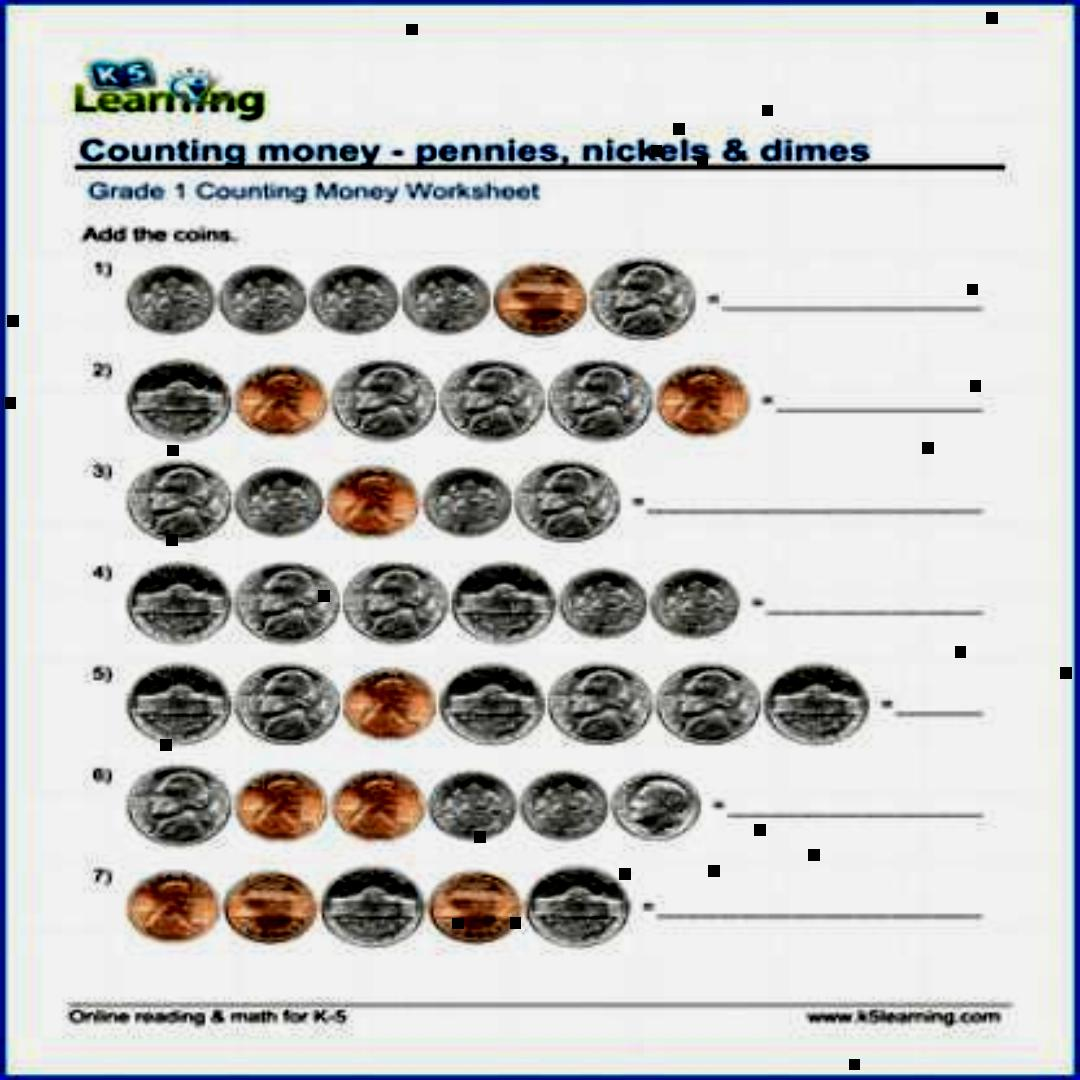Dime: (558, 569, 650, 641), (654, 567, 747, 637), (235, 470, 325, 542), (306, 266, 399, 332), (123, 265, 208, 337), (428, 771, 516, 838), (222, 264, 306, 334), (406, 266, 490, 334), (522, 777, 610, 841), (426, 470, 510, 536), (617, 776, 705, 838)
Nickel: (438, 360, 548, 444), (592, 258, 698, 342), (552, 360, 656, 444), (333, 358, 436, 441), (235, 666, 344, 744), (525, 871, 631, 951), (340, 568, 450, 644), (235, 568, 344, 644), (127, 666, 233, 744), (548, 666, 654, 744), (659, 667, 762, 747), (127, 564, 233, 641), (124, 768, 230, 845), (130, 362, 234, 438), (130, 464, 234, 540), (764, 669, 873, 741), (455, 565, 556, 642), (442, 666, 544, 742), (516, 464, 618, 540), (325, 868, 423, 945)
Penny: (236, 770, 330, 848), (342, 669, 440, 741), (236, 364, 330, 436), (124, 874, 218, 946), (327, 465, 420, 537), (220, 876, 318, 944), (428, 876, 524, 944), (494, 264, 587, 334), (660, 365, 750, 435), (335, 776, 428, 843)
